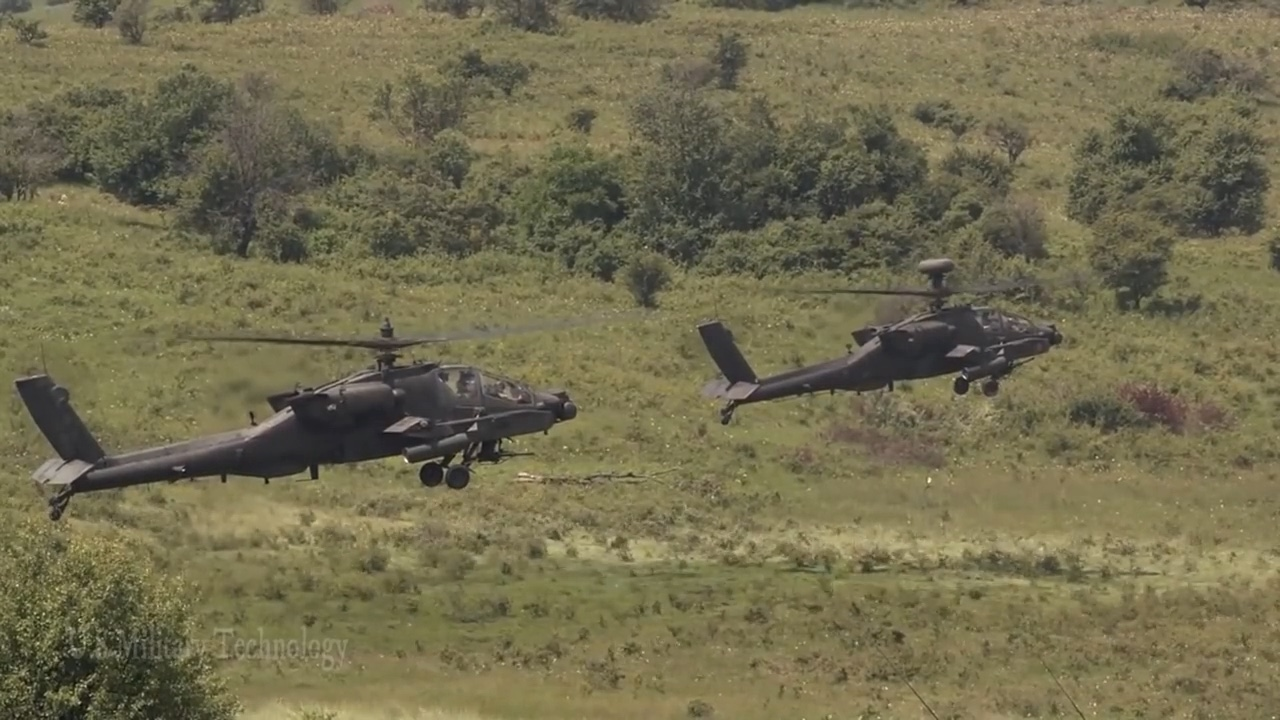ah64: (14, 308, 680, 523), (694, 257, 1177, 428)
